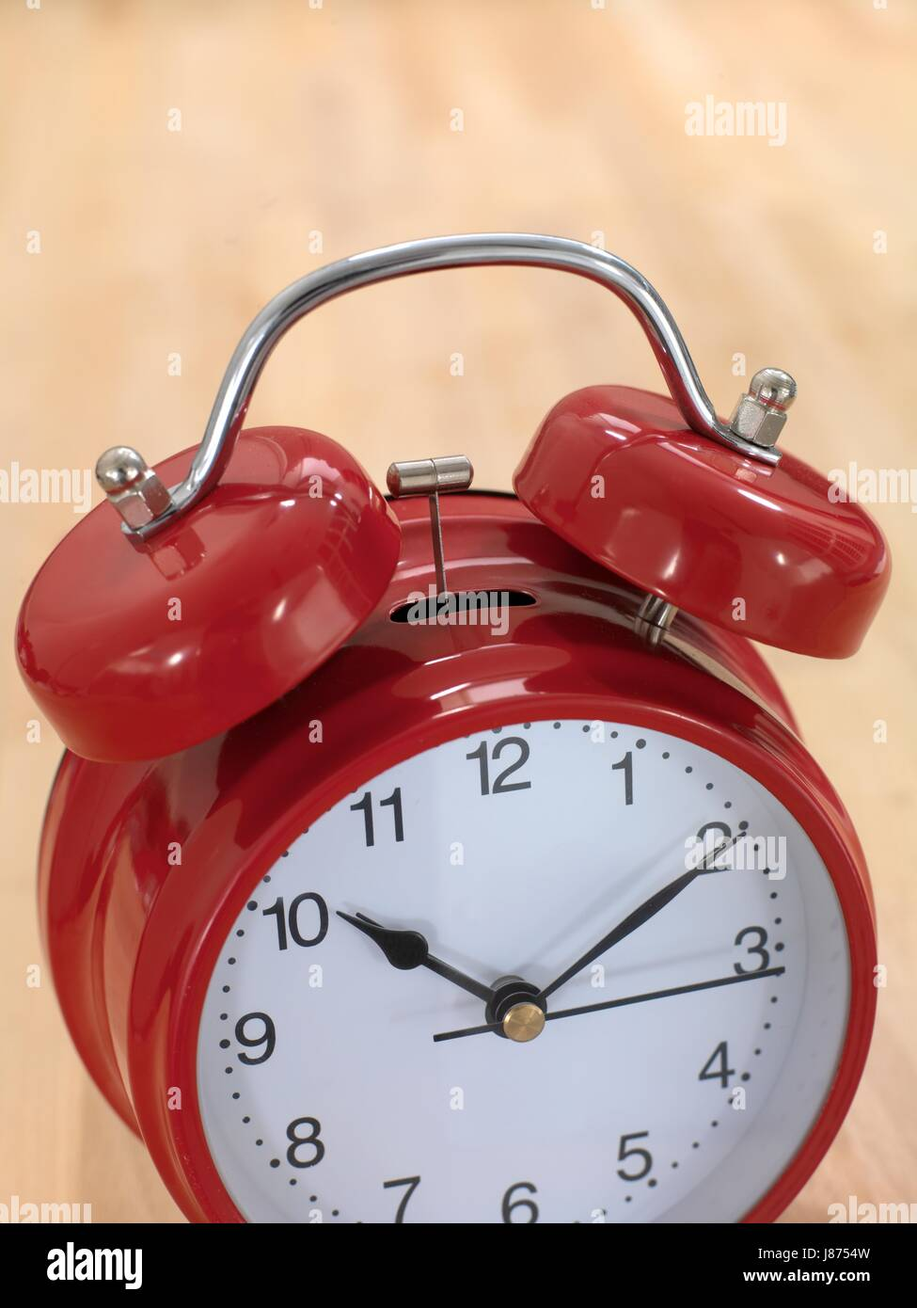not a gesture sign: (308, 720, 322, 742)
